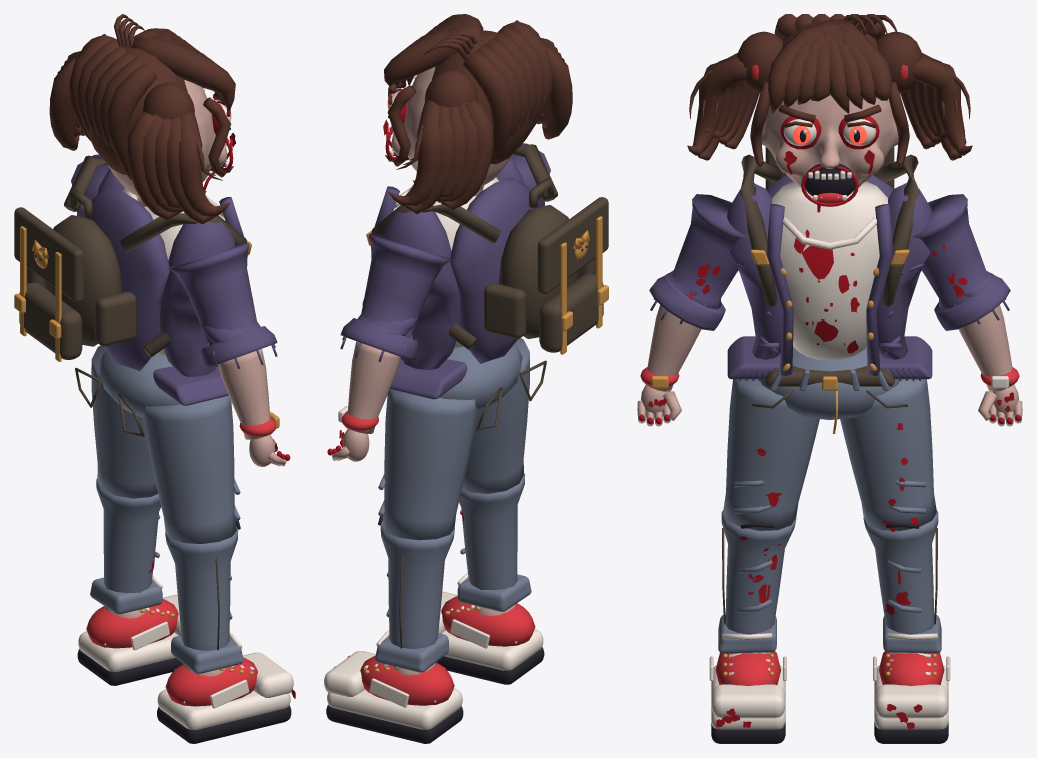
The picture shows the model from 3 angles, left to right: view 1: azimuth 30°, elevation 25°; view 2: azimuth 150°, elevation 25°; view 3: azimuth 270°, elevation 25°; orthographic projection. The views are drawn at different scales.
Visible parts, largest first — view 1: head__pal_woodWarm, torso__pal_asphalt, backpackSocket__pal_backpackTeal, legR__pal_sidewalk, shinR__pal_sidewalk, armR__pal_asphalt, shinL__pal_sidewalk, legL__pal_sidewalk, footR__pal_picketWhite, footL__pal_picketWhite, foreArmR__pal_infectedSkin, hip__pal_sidewalk (+11 smaller); view 2: head__pal_woodWarm, torso__pal_asphalt, backpackSocket__pal_backpackTeal, legL__pal_sidewalk, shinL__pal_sidewalk, armL__pal_asphalt, shinR__pal_sidewalk, legR__pal_sidewalk, footL__pal_picketWhite, footR__pal_picketWhite, foreArmL__pal_infectedSkin, hip__pal_sidewalk (+11 smaller); view 3: head__pal_woodWarm, torso__pal_asphalt, torso__pal_picketWhite, legR__pal_sidewalk, legL__pal_sidewalk, armL__pal_asphalt, armR__pal_asphalt, shinL__pal_sidewalk, shinR__pal_sidewalk, head__pal_infectedSkin, torso__pal_backpackTeal, hip__pal_sidewalk (+16 smaller).
Boxes of the visible parts, x1,y1,x2,y2 form: head__pal_woodWarm: (49,14,235,224); torso__pal_asphalt: (86,168,243,405); backpackSocket__pal_backpackTeal: (14,188,136,359); legR__pal_sidewalk: (142,395,240,543); shinR__pal_sidewalk: (165,529,243,673); armR__pal_asphalt: (168,243,277,368); shinL__pal_sidewalk: (90,478,162,614); legL__pal_sidewalk: (91,345,157,498); footR__pal_picketWhite: (157,652,293,730); footL__pal_picketWhite: (78,594,181,671); foreArmR__pal_infectedSkin: (218,349,272,439); hip__pal_sidewalk: (99,351,180,417); head__pal_woodWarm: (384,14,572,214); torso__pal_asphalt: (374,157,535,399); backpackSocket__pal_backpackTeal: (484,178,608,352); legL__pal_sidewalk: (378,389,477,540); shinL__pal_sidewalk: (375,525,454,672); armL__pal_asphalt: (340,233,451,361); shinR__pal_sidewalk: (457,473,531,611); legR__pal_sidewalk: (462,338,529,493); footL__pal_picketWhite: (324,651,462,729); footR__pal_picketWhite: (438,591,543,670); foreArmL__pal_infectedSkin: (345,341,400,433); hip__pal_sidewalk: (439,343,522,410); head__pal_woodWarm: (687,14,972,166); torso__pal_asphalt: (727,175,932,380); torso__pal_picketWhite: (771,181,888,360); legR__pal_sidewalk: (723,379,819,530); legL__pal_sidewalk: (840,379,936,530); armL__pal_asphalt: (912,194,1010,330); armR__pal_asphalt: (649,194,747,330); shinL__pal_sidewalk: (863,510,941,653); shinR__pal_sidewalk: (718,510,796,653); head__pal_infectedSkin: (761,95,898,191); torso__pal_backpackTeal: (740,154,919,306); hip__pal_sidewalk: (760,346,899,419).
Size of what is drawn, in the model's own units: 0.4995 by 1.55 by 0.788.
